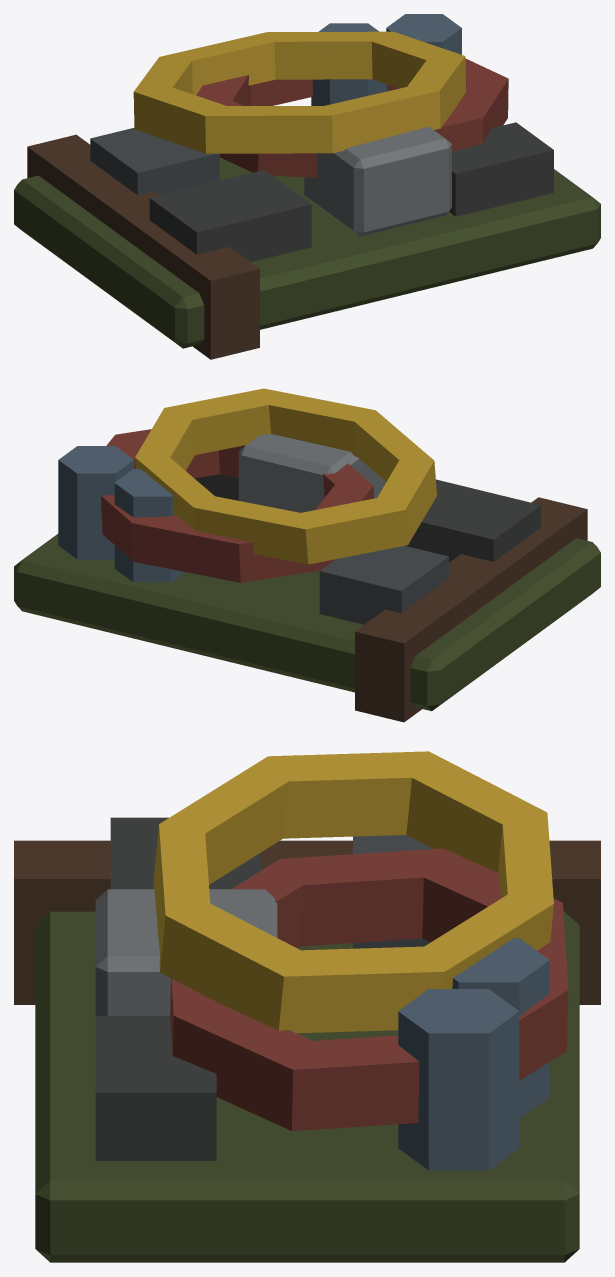
File: item_electronics.glb
3 renders of one model, top to bottom at view 1: azimuth 30°, elevation 25°; view 2: azimuth 150°, elevation 25°; view 3: azimuth 270°, elevation 25°, orthographic. The views are drawn at different scales.
Parts seen in each view (by area): view 1: electronics; view 2: electronics; view 3: electronics.
Part boxes in pixels (x1,y1,x2,y2): electronics: (14, 14, 600, 359); electronics: (14, 388, 600, 722); electronics: (14, 751, 600, 1262).
Size of the model in its own units: 0.26 by 0.0993 by 0.194.
